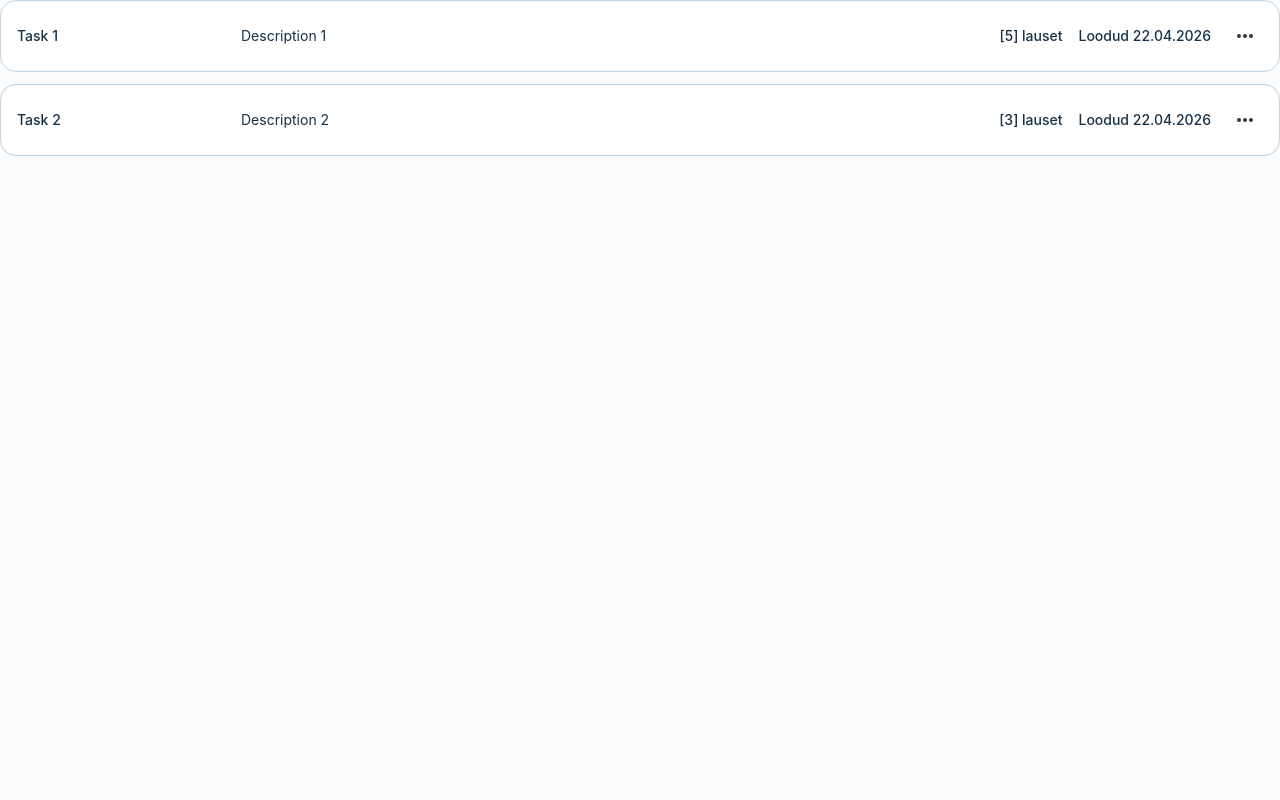
Test: TaskManager › should close menu when backdrop clicked
This screenshot has width=1280, height=800.
What coordinates should you click on to do the following:
click the 1st button named "Rohkem valikuid"
I would click on:
 (1245, 36)
Its box is left=1227, top=18, right=1263, bottom=54.
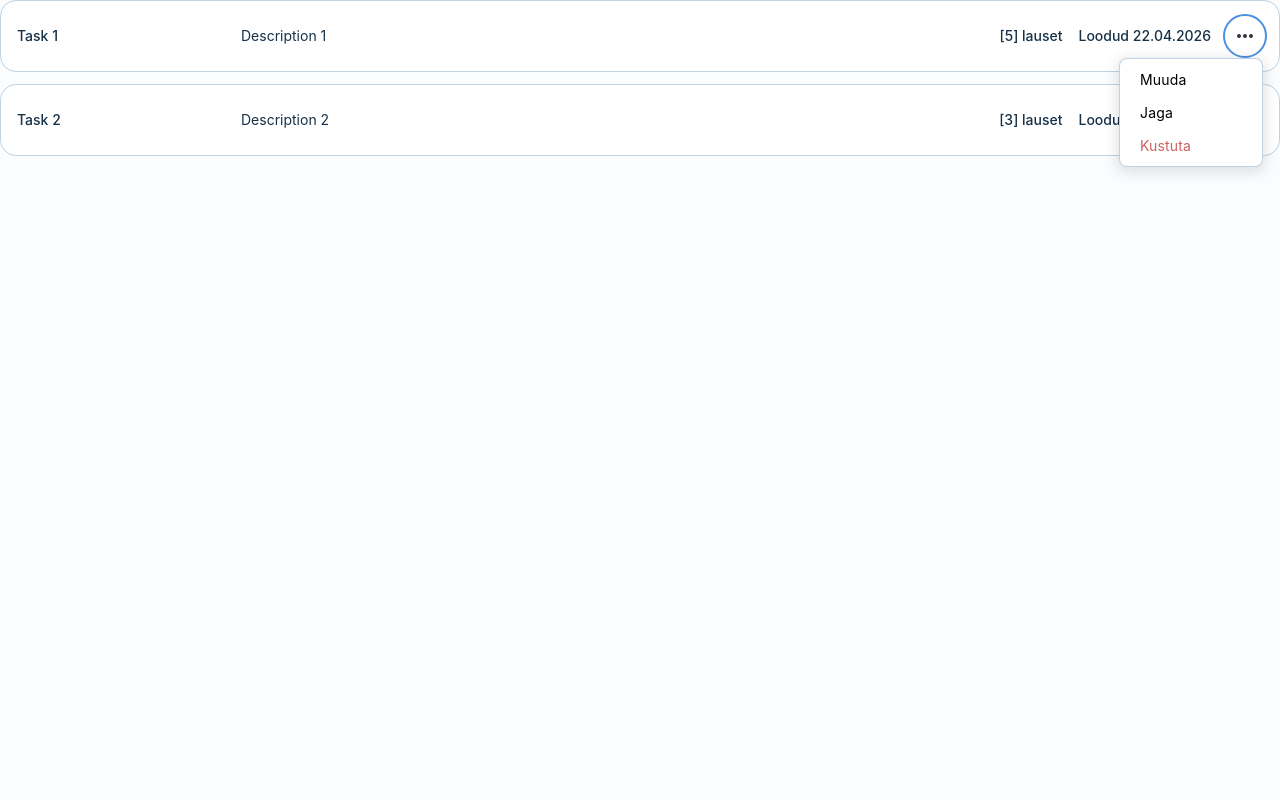
Check: the text "Muuda" is shown, box left=1140, top=69, right=1186, bottom=90
What coordinates should you click on to do the following:
click the element with class "task-manager__menu-backdrop"
I would click on:
 (640, 400)
Its box is left=0, top=0, right=1279, bottom=799.
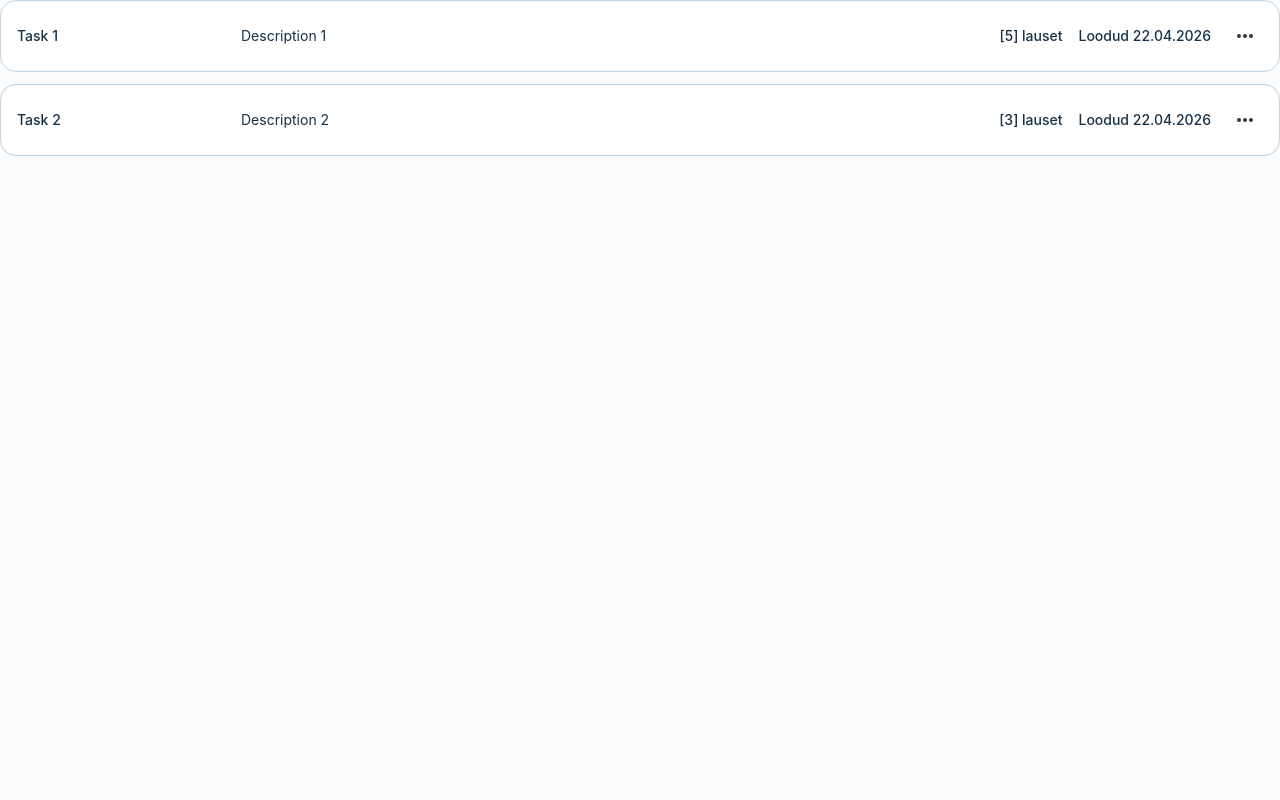
Check: the button "Muuda" is gone
